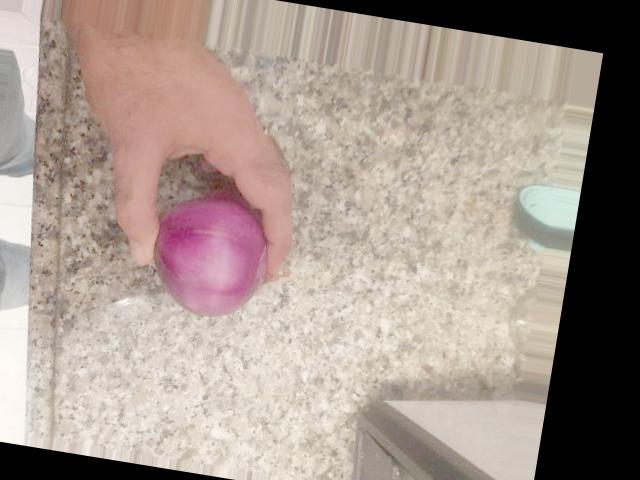onion: (144, 197, 285, 325)
